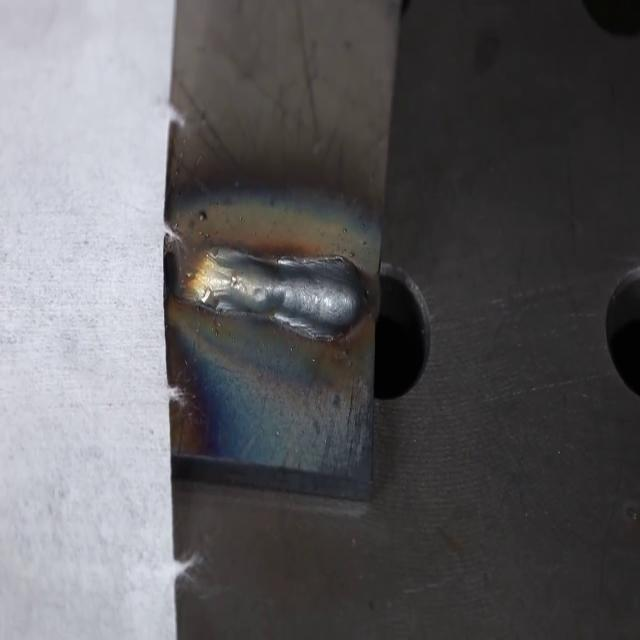Bad Welding: (200, 250, 365, 344)
